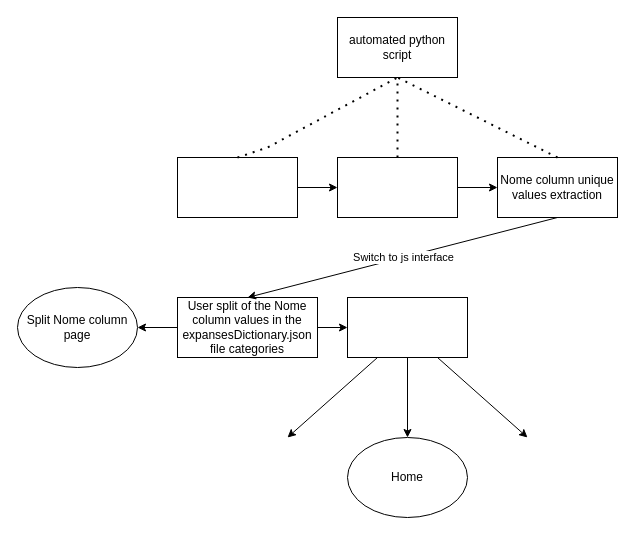
Image size: 635x535. Some labels were removed from this diagram. The centre of each missing label's shape, as x and y in pixels:
data cleaning (csv formatting and save of cleaned version (check jupyter 1) ): pixel 237 187
data split in months (jupyter 2): pixel 397 187
General UI interface: pixel 407 327
